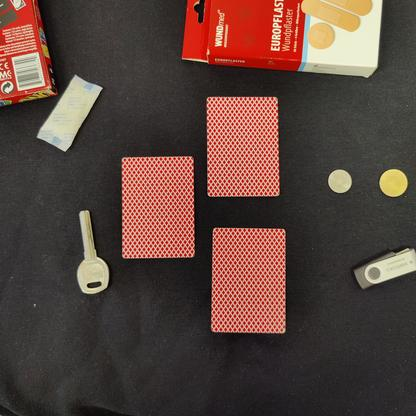card: (204, 223, 289, 336), (203, 92, 283, 201)
